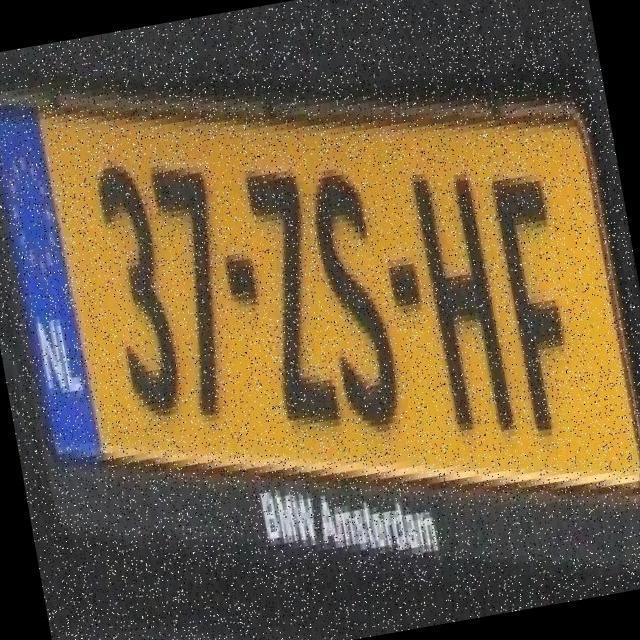License Plate: (0, 1, 640, 604)
